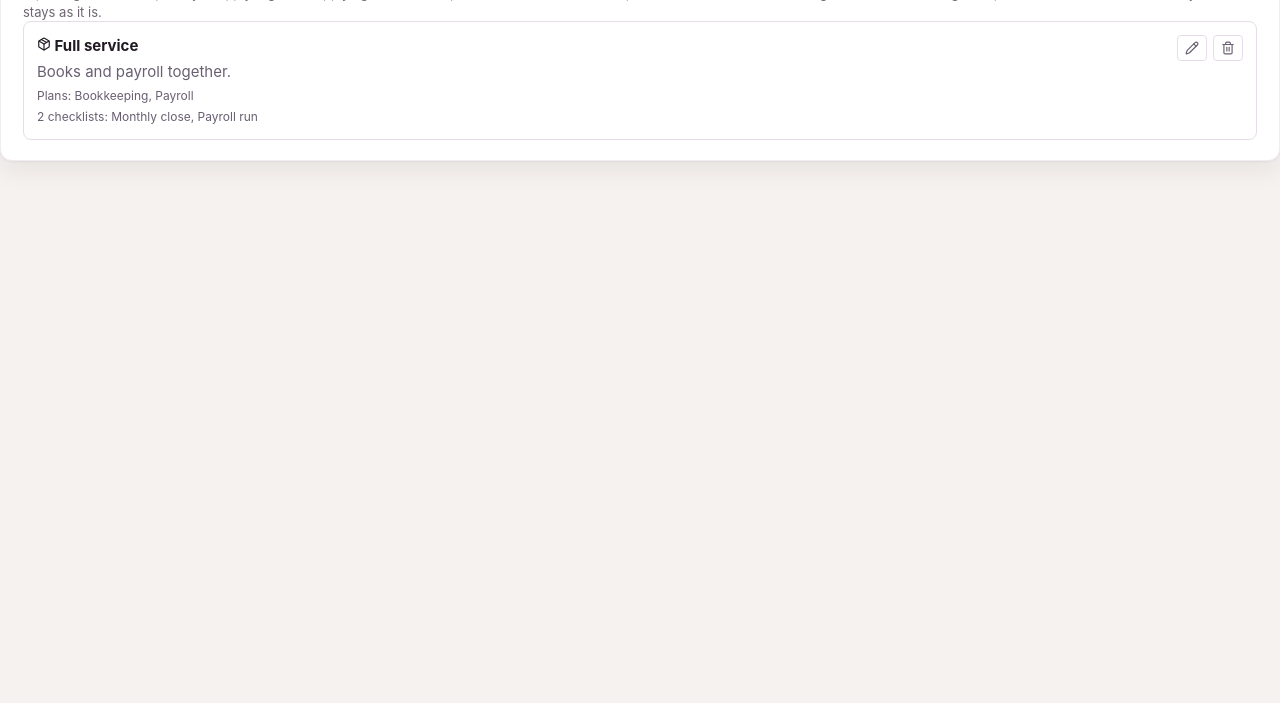
"Suggest checklists" in the package editor › renders each proposal with its reason, UNCHECKED
Click the button named "Edit Full service" at (1192, 48), box x1=1177 y1=35 x2=1207 y2=61
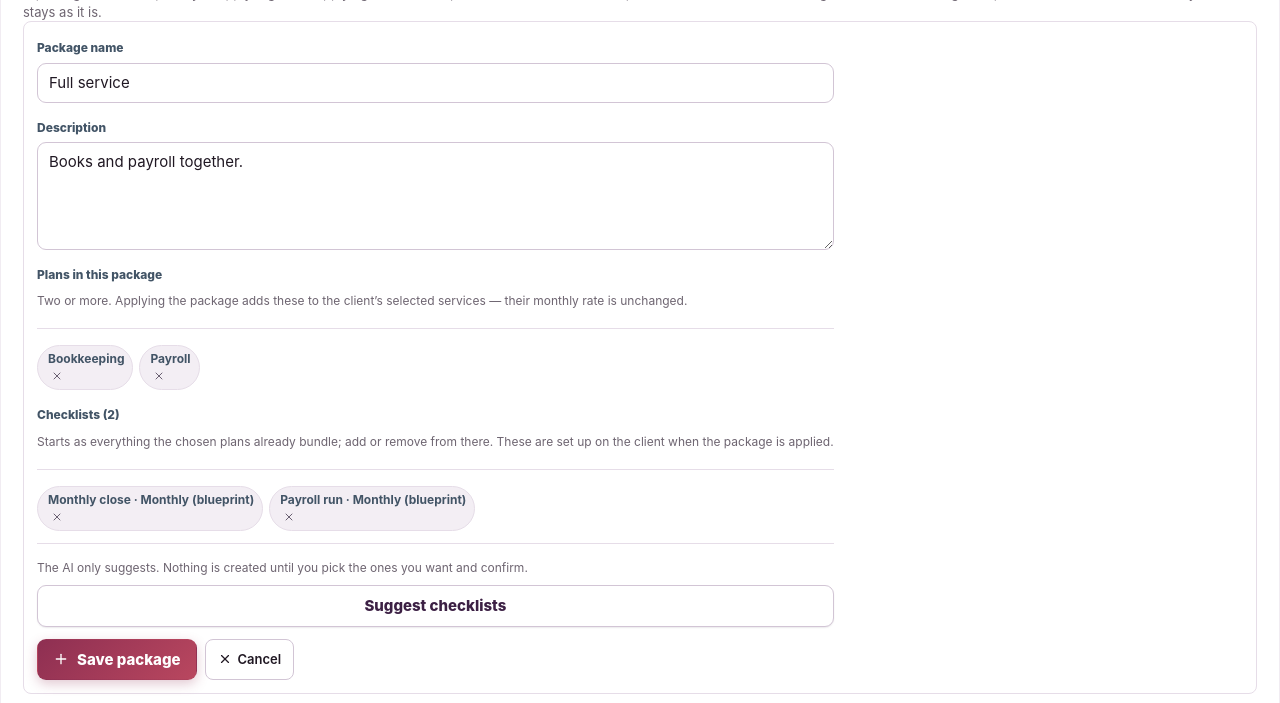
Click the button "Suggest checklists" at (435, 606), box x1=37 y1=585 x2=834 y2=627
(page scrolled)
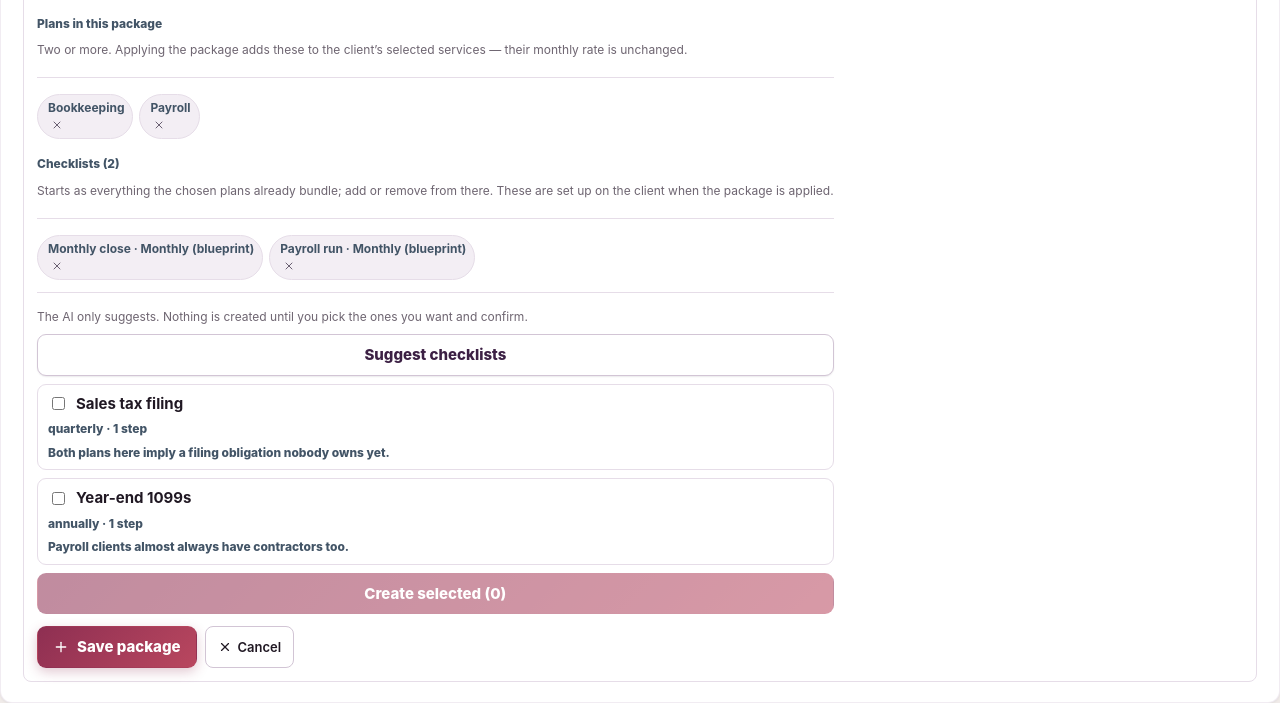
Expected: the text "Sales tax filing" is shown, x1=76 y1=393 x2=183 y2=414
Expected: the text "Both plans here imply a filing obligation nobody owns yet." is shown, x1=48 y1=445 x2=390 y2=460
Expected: the checkbox labelled "Sales tax filing" is not checked, x1=52 y1=397 x2=65 y2=410
